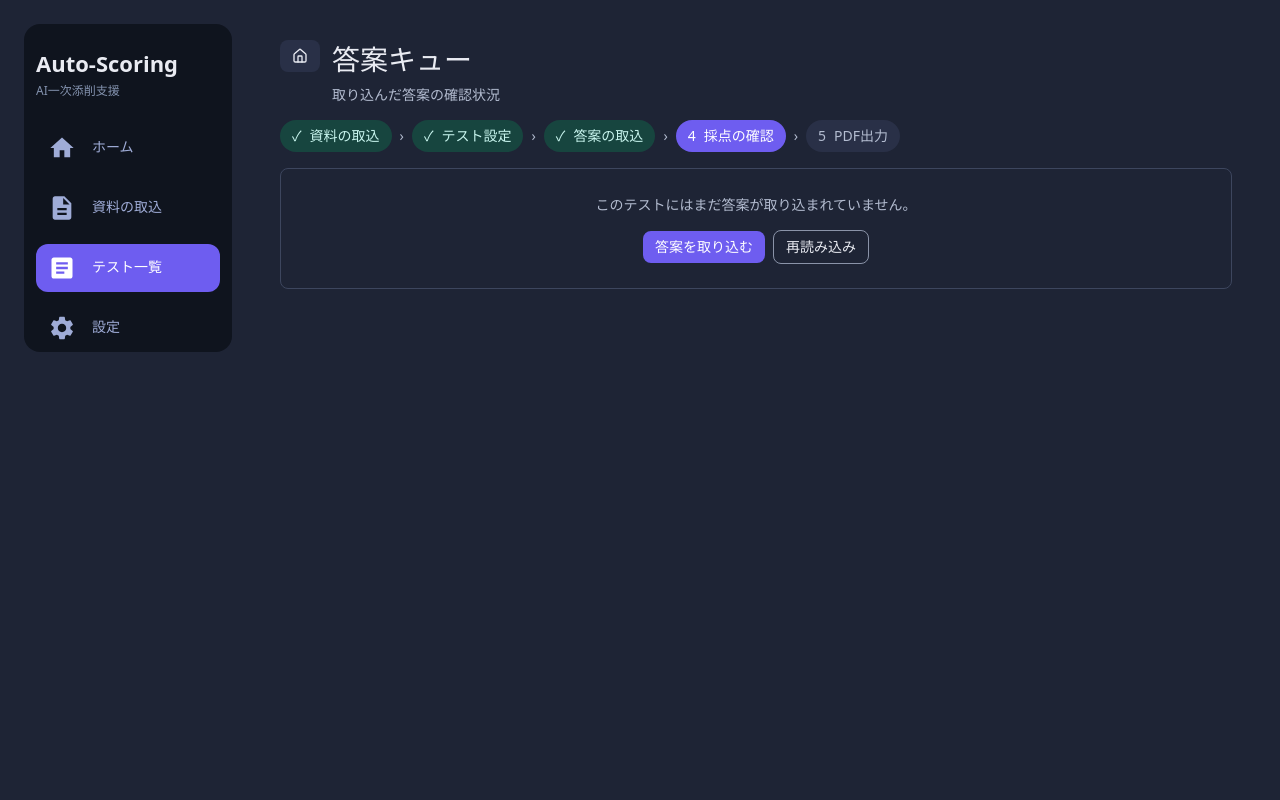
Test: SubmissionQueuePage (Issue #113 / Issue #242 / INV-021, 140..146, 158, 159) › 答案が0件でも、このテストを宛先にした取込を開ける (Issue #414)
The image size is (1280, 800).
expect the element with test id "queue-empty" is shown: met, box x1=280 y1=168 x2=1232 y2=289
Click the button with test id "queue-add-answers-empty". click: (704, 247)
box: x1=643 y1=231 x2=765 y2=263
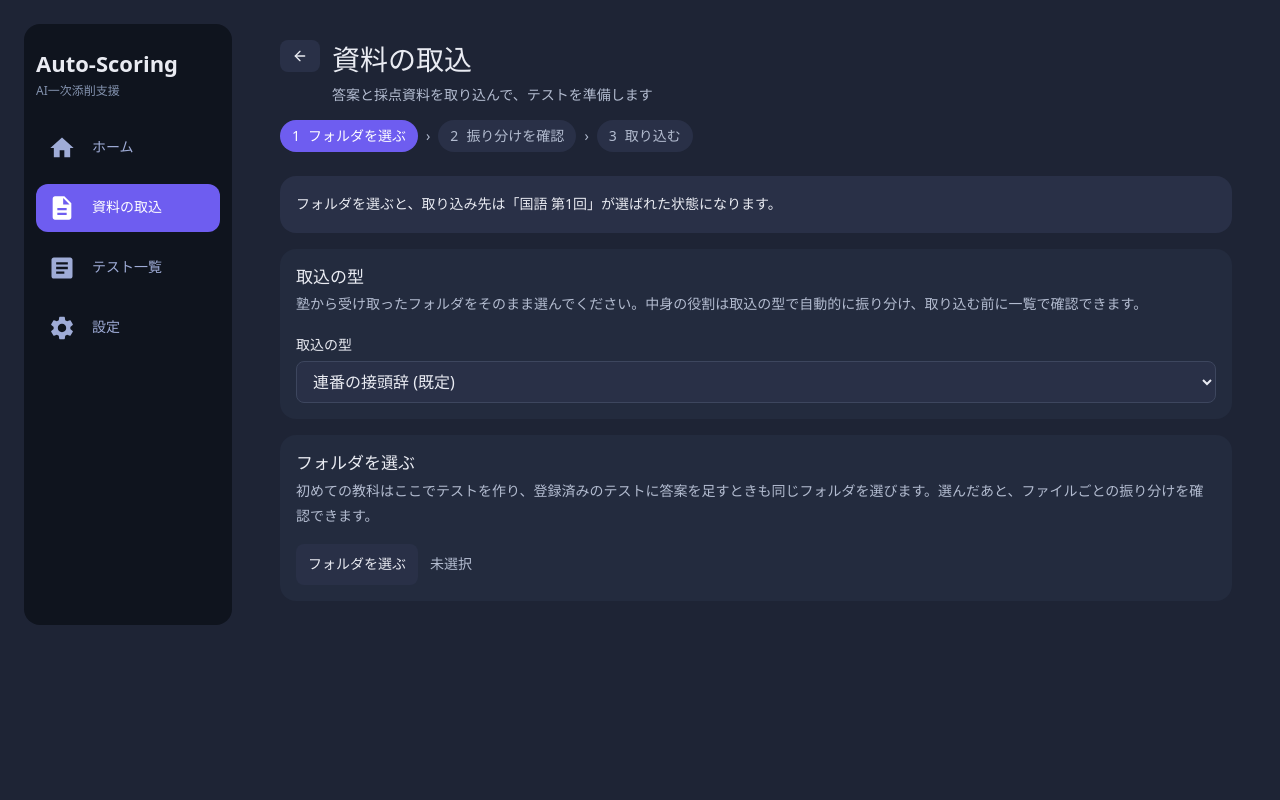
expect the element with test id "intake-target-summary" is shown: met, box x1=280 y1=176 x2=1232 y2=233
expect the heading with test id "page-title" reads "資料の取込": met, box x1=332 y1=40 x2=472 y2=78
expect the element with test id "intake-target-summary" shows "国語 第1回": met, box x1=520 y1=194 x2=587 y2=213
